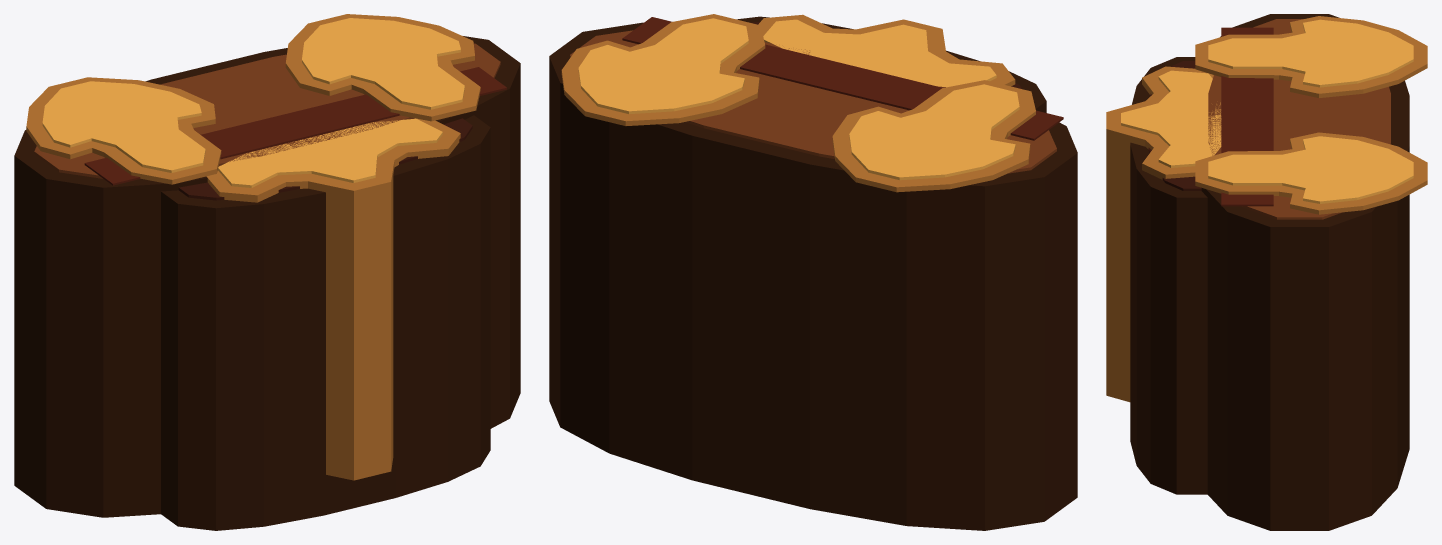
Rendered from bag_chamas_fogo.fbx.
3 views of the same model, side by side, from view 1: azimuth 30°, elevation 25°; view 2: azimuth 150°, elevation 25°; view 3: azimuth 270°, elevation 25° (orthographic). The views are drawn at different scales.
Parts seen in each view (by area): view 1: bag_chamas_fogo_mochila; view 2: bag_chamas_fogo_mochila; view 3: bag_chamas_fogo_mochila.
Boxes of the visible parts, x1=… form: bag_chamas_fogo_mochila: x1=14, y1=14, x2=520, y2=530; bag_chamas_fogo_mochila: x1=549, y1=14, x2=1077, y2=530; bag_chamas_fogo_mochila: x1=1106, y1=14, x2=1427, y2=530.
Bounding box in the file's own units: 2.71 × 1.86 × 1.73.
Materials: 1 (1 with a texture image).
